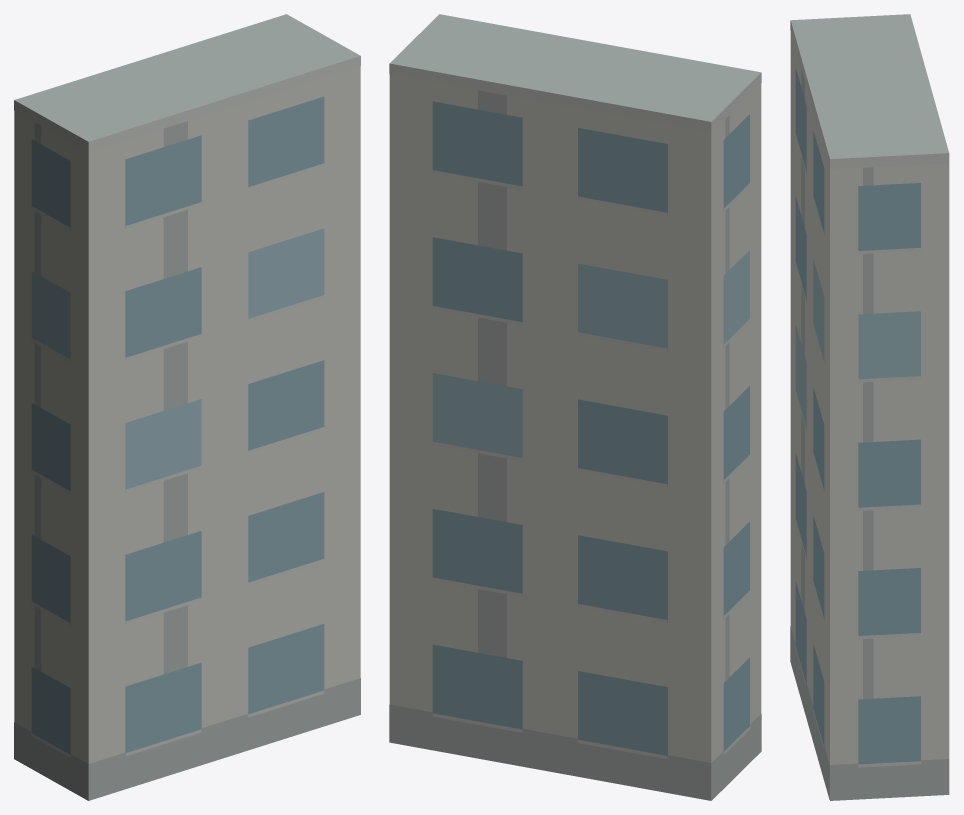
File: survey-upis-32813684.glb
3 views of the same model, side by side, from view 1: azimuth 30°, elevation 25°; view 2: azimuth 150°, elevation 25°; view 3: azimuth 270°, elevation 25° (orthographic). The views are drawn at different scales.
Visible parts, largest first — view 1: survey-upis-32813684.tmp; view 2: survey-upis-32813684.tmp; view 3: survey-upis-32813684.tmp.
Boxes of the visible parts, bbox=[...] form: survey-upis-32813684.tmp: bbox=[14, 14, 360, 800]; survey-upis-32813684.tmp: bbox=[389, 14, 761, 800]; survey-upis-32813684.tmp: bbox=[790, 14, 949, 800].
Size of the model in its own units: 7.4 by 15.25 by 3.43.
